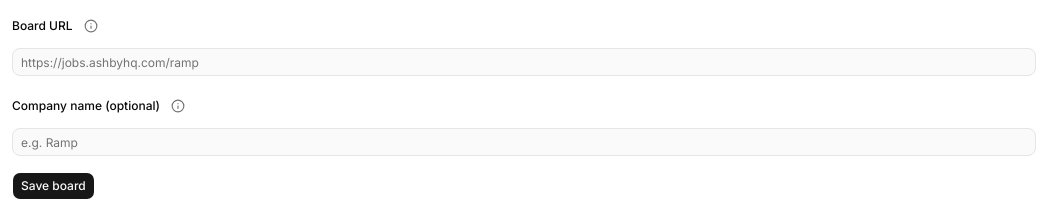
Scenario: keeps the slug and saves locally after offline
The width and height of the screenshot is (1048, 216).
Later steps or results of the test are not shown.
Click the field labelled "Board URL".
click(524, 62)  # box top-left (12, 48), bottom-right (1036, 76)
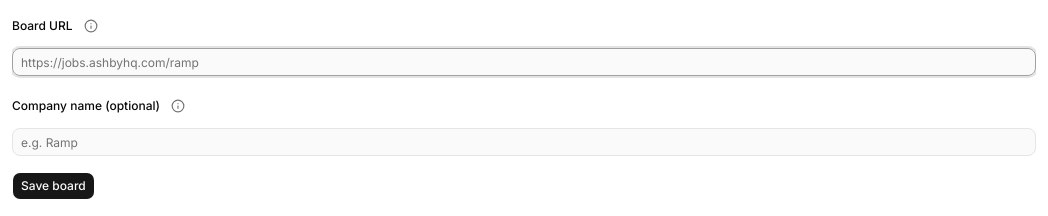
Type keys "https://jobs.ashbyhq.com/notion"
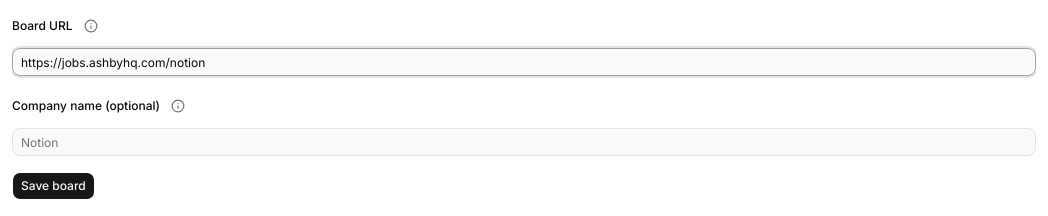
expect the field labelled "Company name (optional)" is empty: met, box top-left (12, 128), bottom-right (1036, 156)
expect the field labelled "Company name (optional)" has attribute placeholder="Notion": met, box top-left (12, 128), bottom-right (1036, 156)
